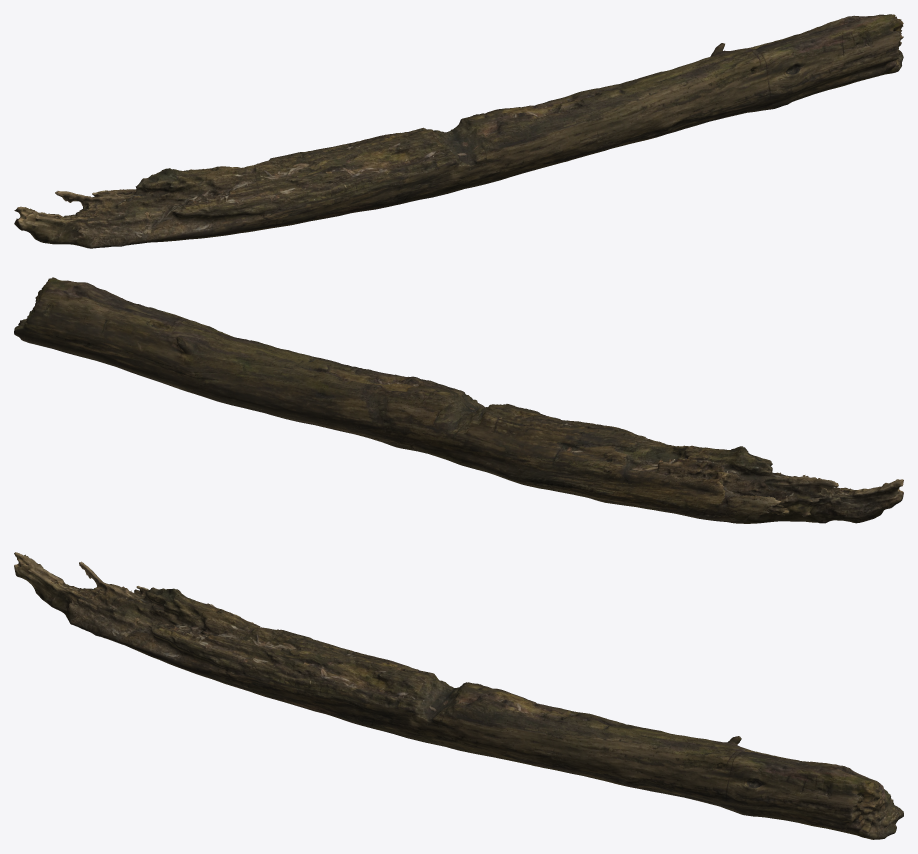
The model's file is dead_tree_trunk.glb.
3 renders of one model, top to bottom at view 1: azimuth 30°, elevation 25°; view 2: azimuth 150°, elevation 25°; view 3: azimuth 330°, elevation 25°, orthographic.
Parts seen in each view (by area): view 1: dead_tree_trunk; view 2: dead_tree_trunk; view 3: dead_tree_trunk.
Part boxes in pixels (x1,y1,x2,y2): dead_tree_trunk: (14,14,903,248); dead_tree_trunk: (14,277,903,523); dead_tree_trunk: (14,552,903,839).
Size of the model in its own units: 3.05 by 0.2905 by 0.2775.
1 material, 1 textured.
